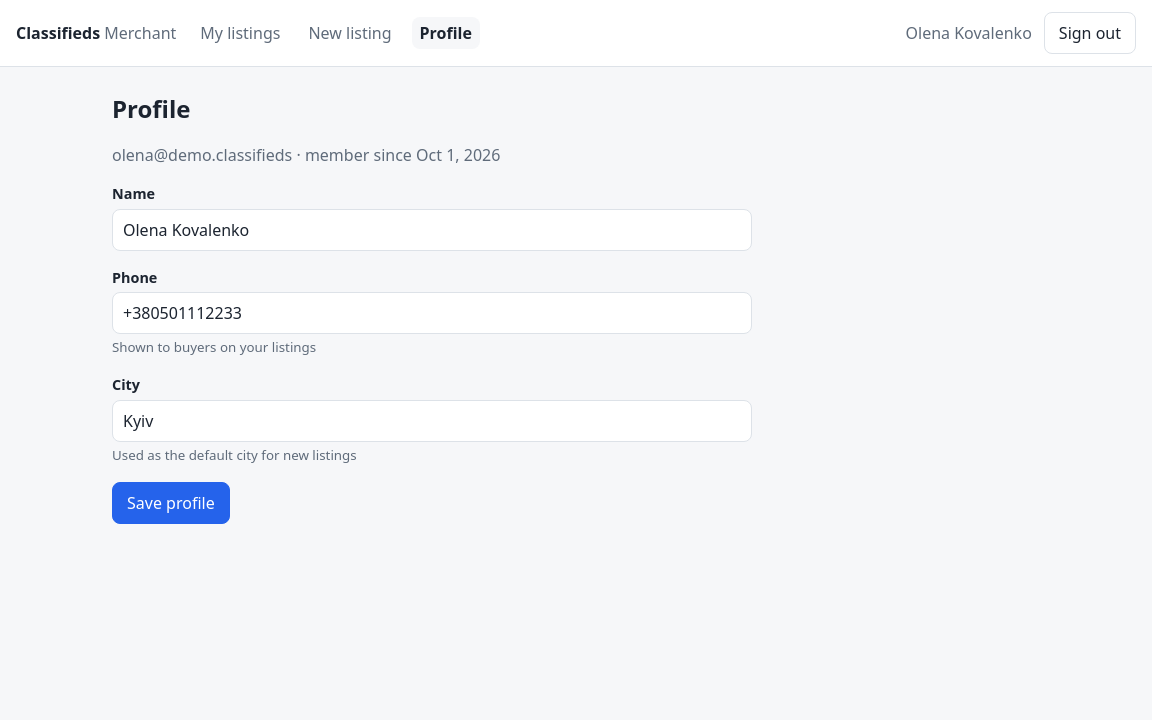
Test: profile page › shows the profile and saves changes
The width and height of the screenshot is (1152, 720).
Expected: the text "olena@demo.classifieds · member since Oct 1, 2026" is shown, 112,144 -> 500,166
Expected: the field labelled "Phone" holds "+380501112233", 112,292 -> 752,334
Replace the text in the field labelled "Name" with "  Olena K.  " at (432, 230), box 112,209 -> 752,251
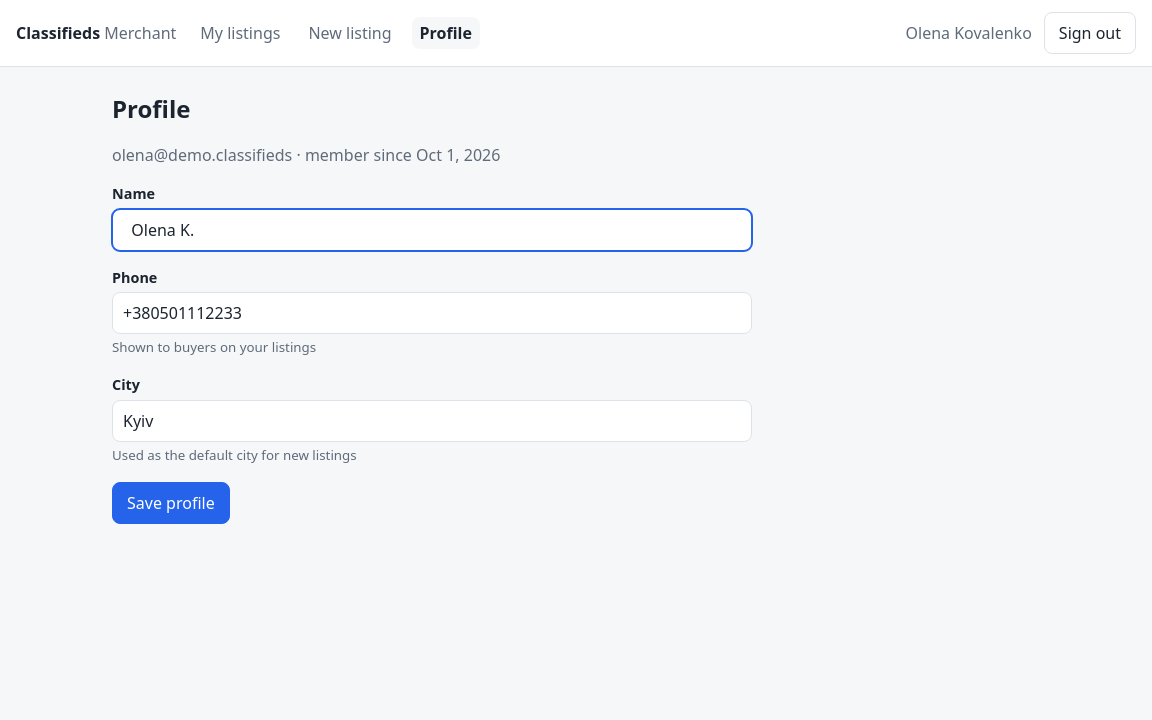
Clear the field labelled "City" at (432, 421), box 112,400 -> 752,442
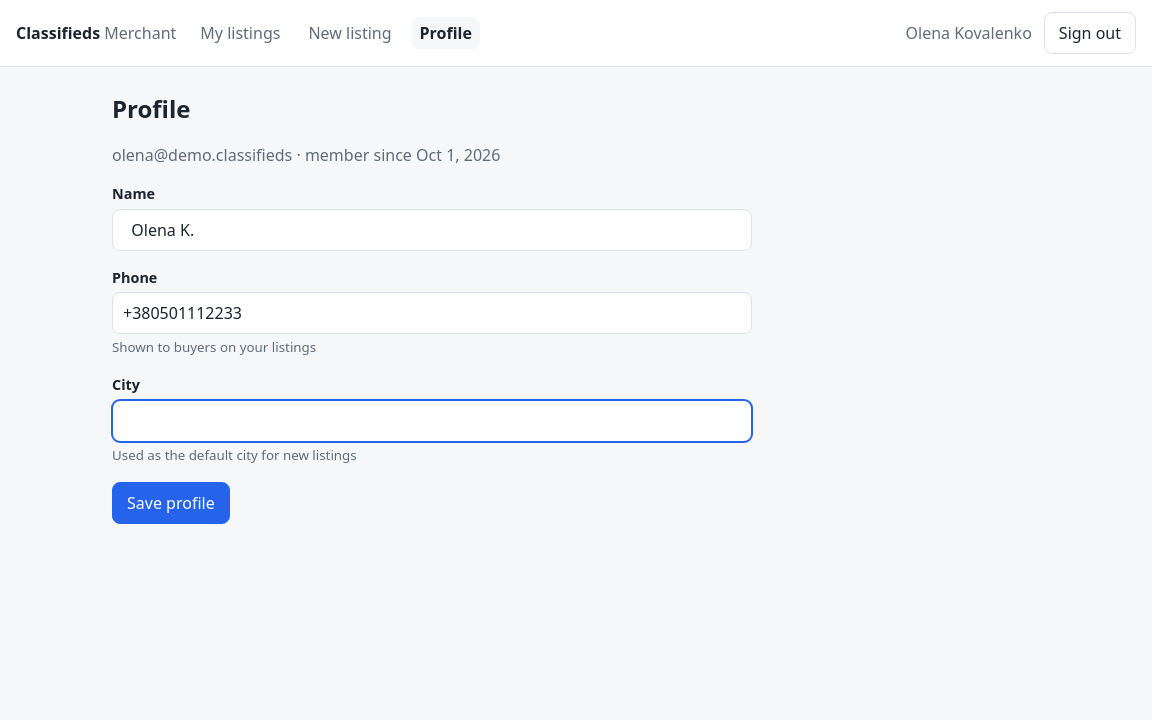
Click the button "Save profile" at (171, 503), box 112,482 -> 230,524
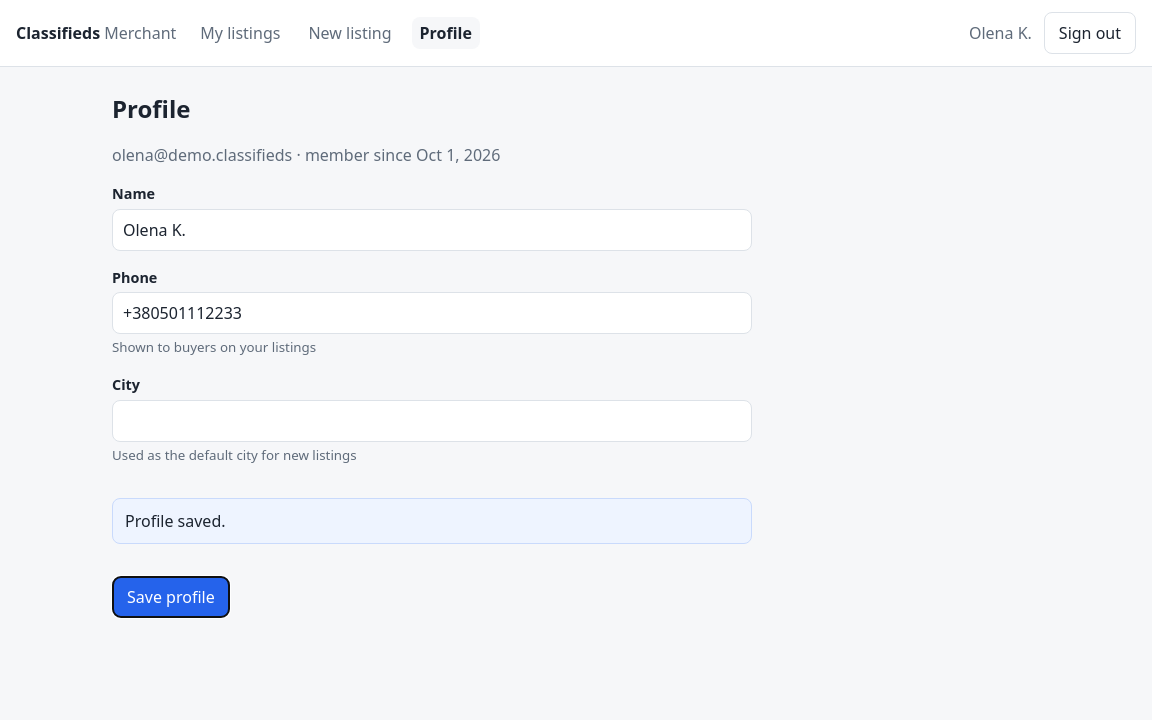
Expected: the text "Olena K." is shown, 969,21 -> 1032,45
Now the message reads "Profile saved.", box 125,510 -> 226,532
